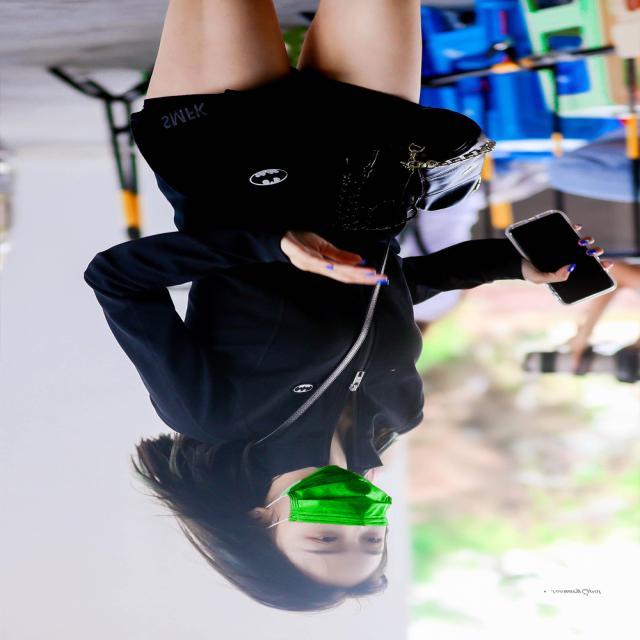Mask: (259, 461, 410, 534)
